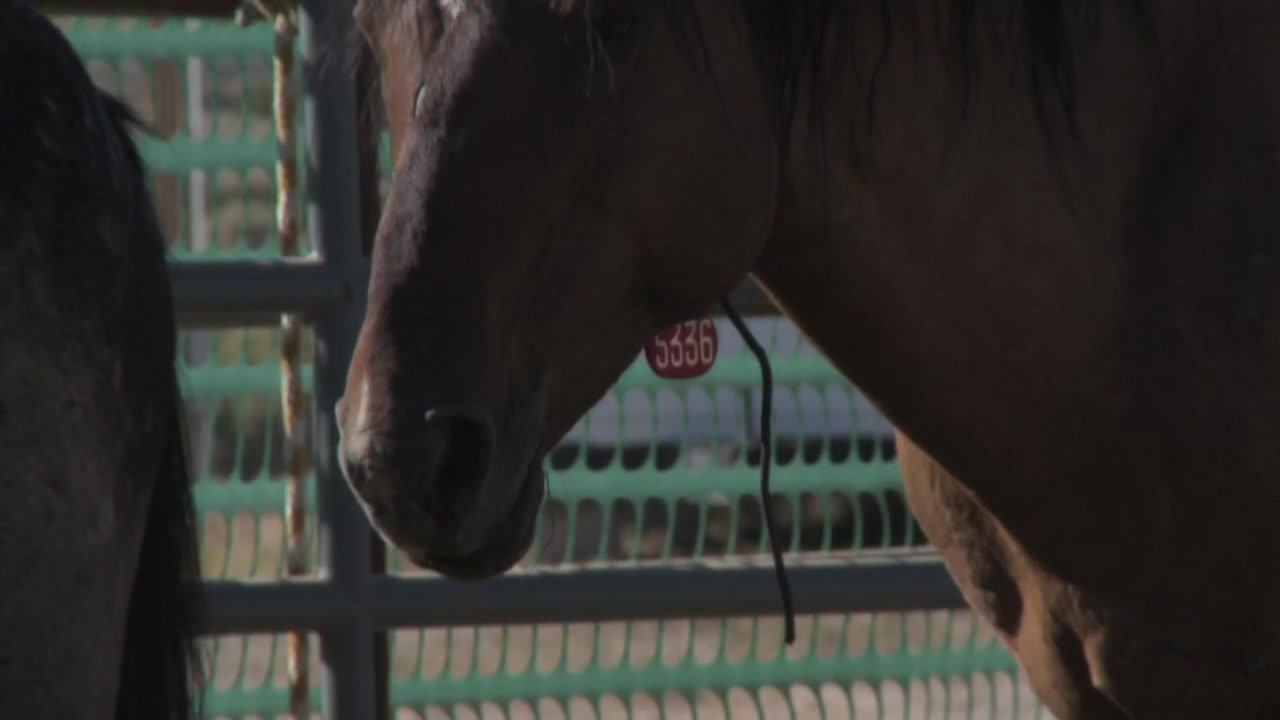horse: (336, 1, 1280, 720), (1, 1, 205, 720)
